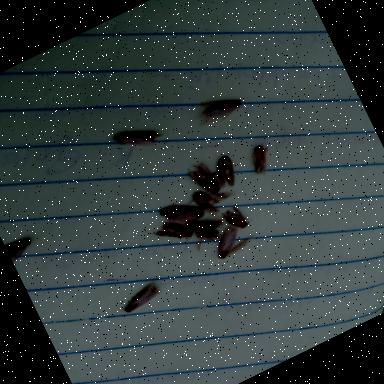pbw: (184, 177, 240, 226), (112, 115, 166, 159), (192, 86, 245, 130), (208, 218, 258, 261), (156, 190, 206, 233), (185, 210, 228, 254), (152, 213, 196, 252), (118, 280, 162, 314), (186, 158, 222, 199), (208, 152, 244, 192), (246, 142, 278, 178), (219, 201, 252, 235), (4, 233, 36, 262)
